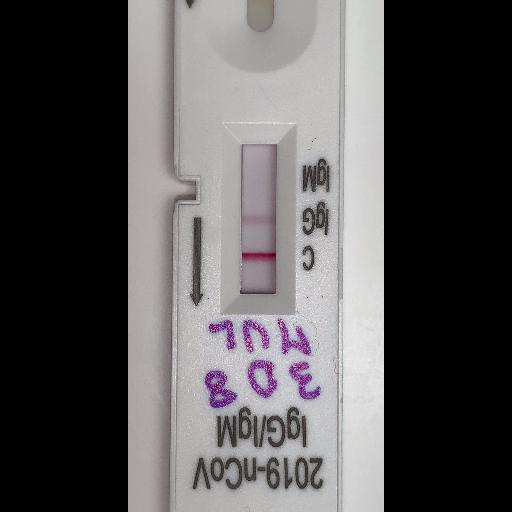Pos: (175, 0, 342, 511)
